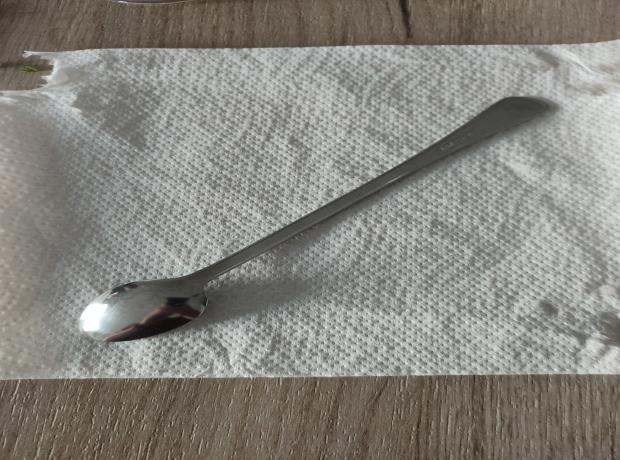metal: (77, 96, 556, 343)
